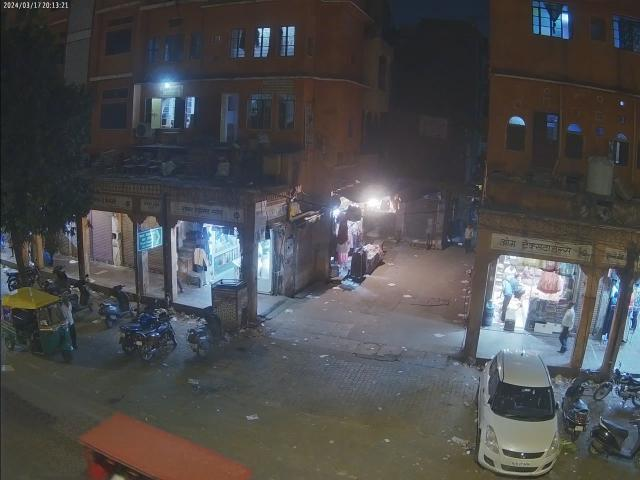auto: (78, 409, 280, 479), (1, 286, 78, 366)
car: (474, 348, 566, 480)
motorbike-rider: (116, 307, 178, 363)
scooty: (587, 389, 640, 479)
